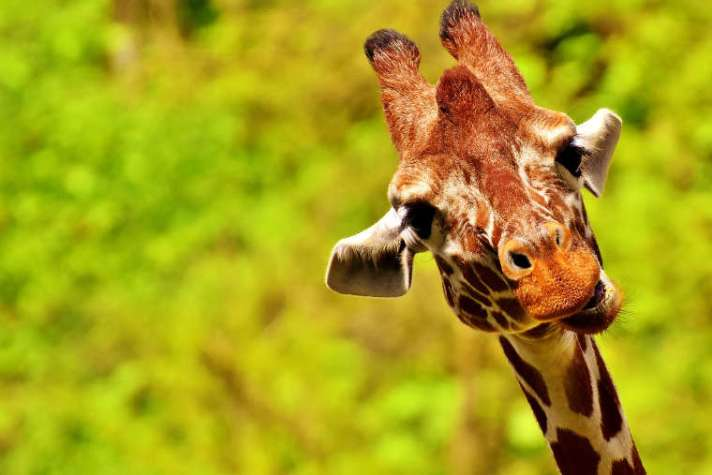Jirafa: (318, 12, 694, 387)
